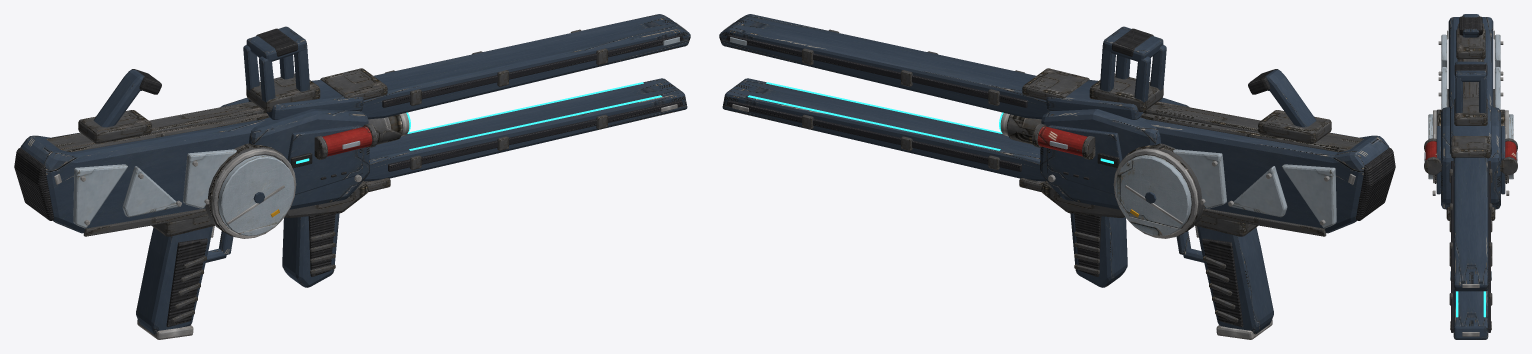
Rendered from railgun-splitline-v1.glb.
The picture shows the model from 3 angles, left to right: view 1: azimuth 30°, elevation 25°; view 2: azimuth 150°, elevation 25°; view 3: azimuth 270°, elevation 25°; orthographic projection. The views are drawn at different scales.
Parts seen in each view (by area): view 1: 04_twinrail_graphite_static, 04_twinrail_mechanism_static, 04_twinrail_white_static, 04_twinrail_rubber_static, 04_twinrail_rail_static, 04_twinrail_steel_static, 04_twinrail_cyan_static, 04_twinrail_redpanel_static; view 2: 04_twinrail_graphite_static, 04_twinrail_mechanism_static, 04_twinrail_white_static, 04_twinrail_rubber_static, 04_twinrail_rail_static, 04_twinrail_steel_static, 04_twinrail_cyan_static, 04_twinrail_redpanel_static; view 3: 04_twinrail_graphite_static, 04_twinrail_mechanism_static, 04_twinrail_white_static, 04_twinrail_rail_static, 04_twinrail_steel_static, 04_twinrail_rubber_static, 04_twinrail_redpanel_static, 04_twinrail_cyan_static.
Boxes of the visible parts, <box> form: 04_twinrail_graphite_static: <box>20,14,690,334</box>; 04_twinrail_mechanism_static: <box>46,29,607,322</box>; 04_twinrail_white_static: <box>73,37,679,235</box>; 04_twinrail_rubber_static: <box>14,28,335,327</box>; 04_twinrail_rail_static: <box>382,34,684,171</box>; 04_twinrail_steel_static: <box>54,22,686,339</box>; 04_twinrail_cyan_static: <box>296,82,662,163</box>; 04_twinrail_redpanel_static: <box>322,126,372,156</box>; 04_twinrail_graphite_static: <box>719,14,1389,334</box>; 04_twinrail_mechanism_static: <box>802,29,1363,322</box>; 04_twinrail_white_static: <box>730,37,1336,235</box>; 04_twinrail_rubber_static: <box>1074,28,1395,327</box>; 04_twinrail_rail_static: <box>725,34,1027,171</box>; 04_twinrail_steel_static: <box>723,22,1355,339</box>; 04_twinrail_cyan_static: <box>747,82,1113,163</box>; 04_twinrail_redpanel_static: <box>1037,126,1087,156</box>; 04_twinrail_graphite_static: <box>1436,14,1505,339</box>; 04_twinrail_mechanism_static: <box>1424,23,1517,305</box>; 04_twinrail_white_static: <box>1424,34,1517,280</box>; 04_twinrail_rail_static: <box>1451,161,1490,332</box>; 04_twinrail_steel_static: <box>1432,30,1509,336</box>; 04_twinrail_rubber_static: <box>1454,16,1487,75</box>; 04_twinrail_redpanel_static: <box>1425,141,1516,160</box>; 04_twinrail_cyan_static: <box>1456,291,1485,317</box>.
Bounding box in the file's own units: 3.45 × 1.35 × 0.5583.
Materials: 10 (9 with a texture image).
